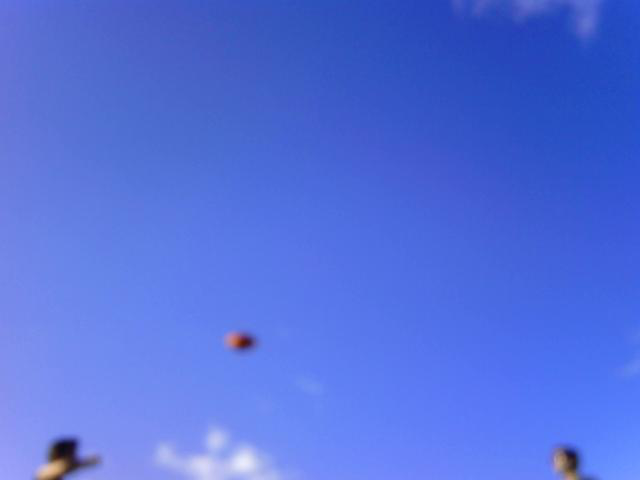football: (220, 329, 259, 354)
